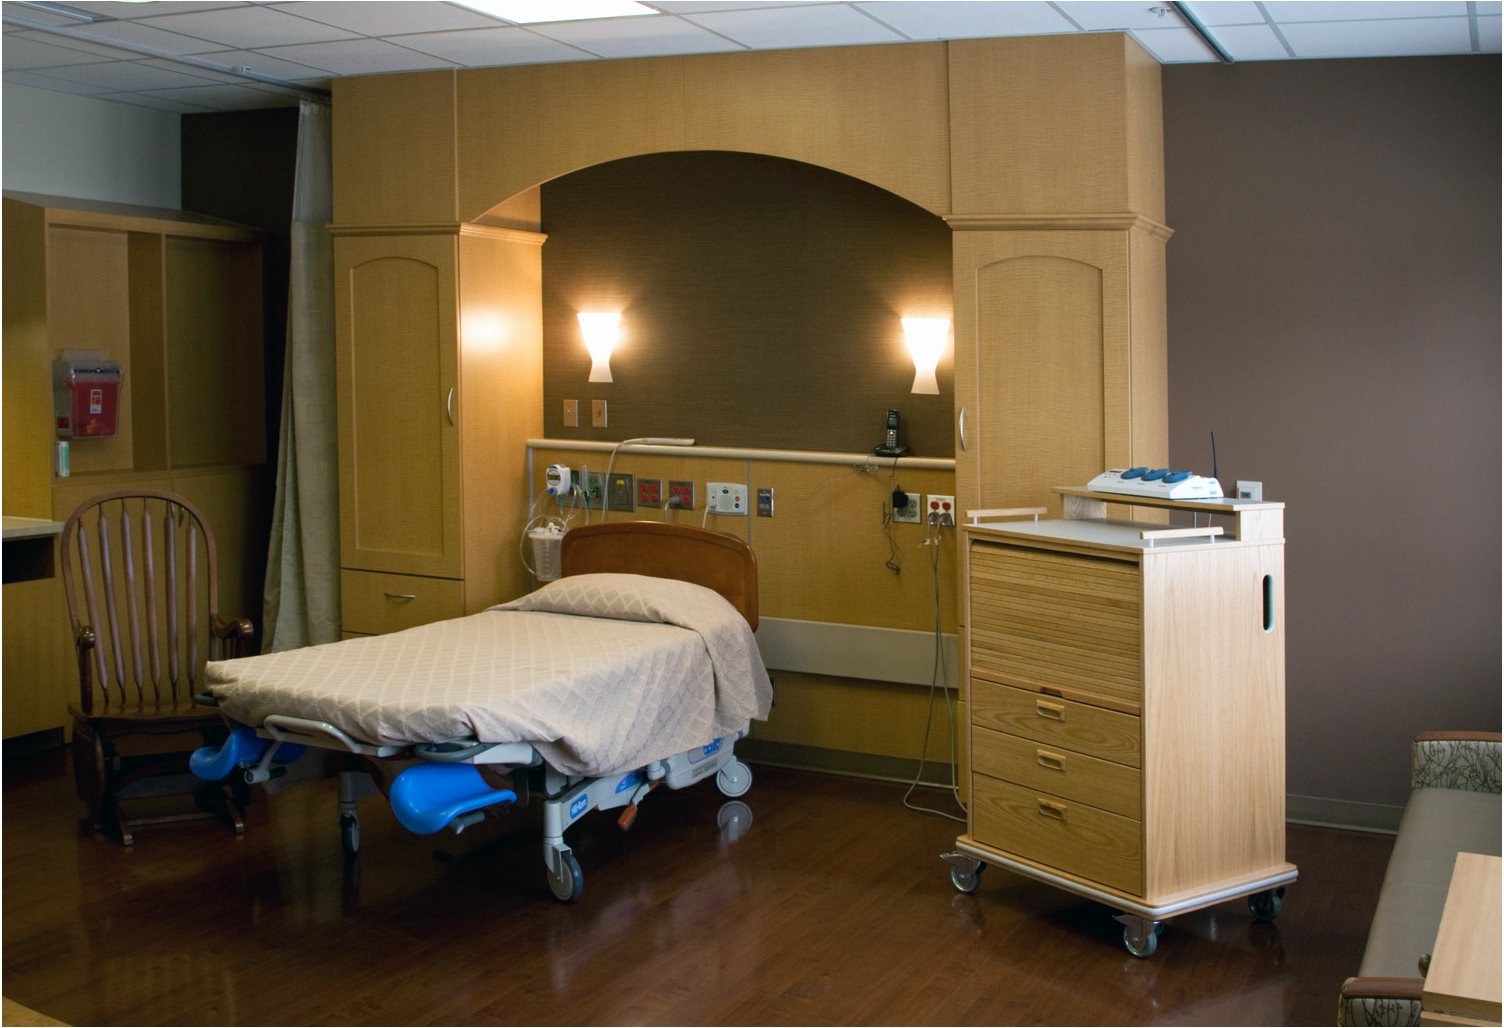hospital bed: (179, 539, 814, 760)
